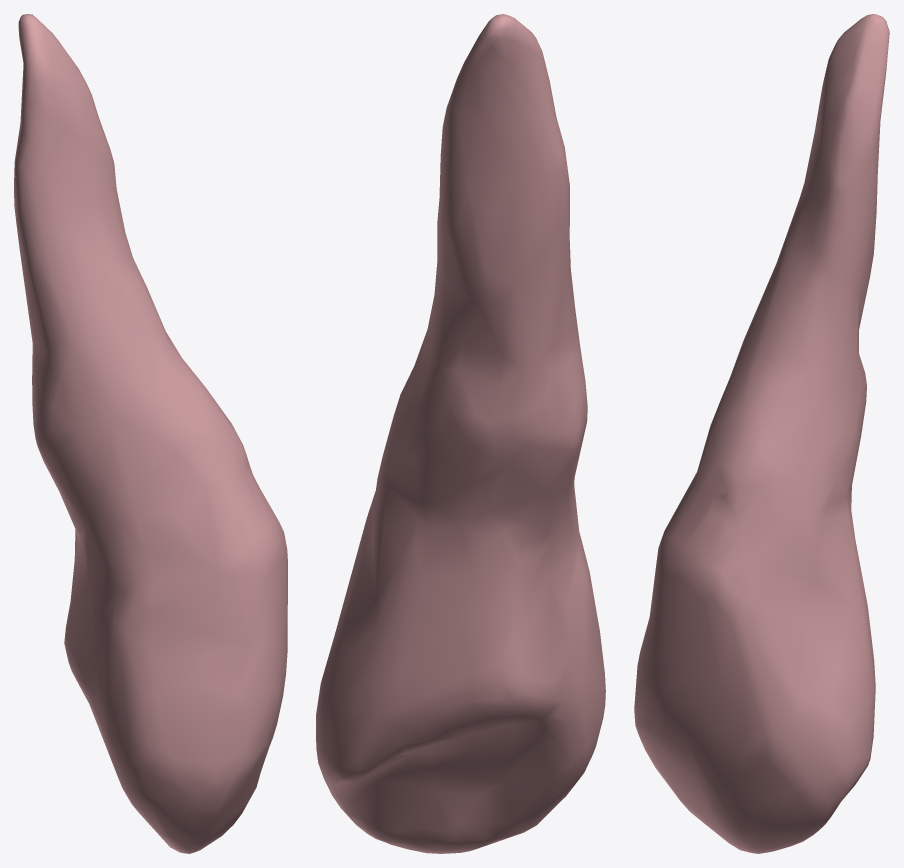
File: fma55799_fj1267.glb
The picture shows the model from 3 angles, left to right: view 1: azimuth 30°, elevation 25°; view 2: azimuth 150°, elevation 25°; view 3: azimuth 270°, elevation 25°; orthographic projection. The views are drawn at different scales.
Visible parts, largest first — view 1: FMA55799_FJ1267; view 2: FMA55799_FJ1267; view 3: FMA55799_FJ1267.
Part boxes in pixels (left/top/right/bottom): FMA55799_FJ1267: left=14, top=14, right=287, bottom=853; FMA55799_FJ1267: left=316, top=14, right=605, bottom=853; FMA55799_FJ1267: left=634, top=14, right=889, bottom=853.
Bounding box in the file's own units: 0.00925 × 0.0314 × 0.00931.
